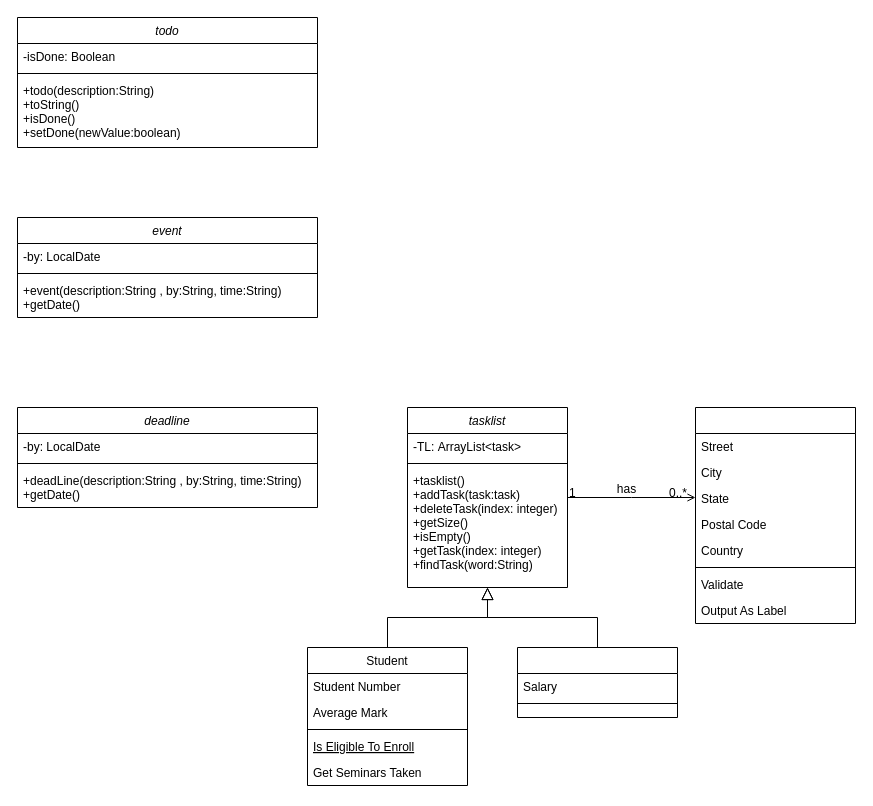
Image size: 873x806. Some labels were removed from this diagram. The box of each missing label's shape, as (x1, y1, x2, y2) in pixels:
Professor: (516, 646, 678, 718)
task: (694, 406, 856, 624)
